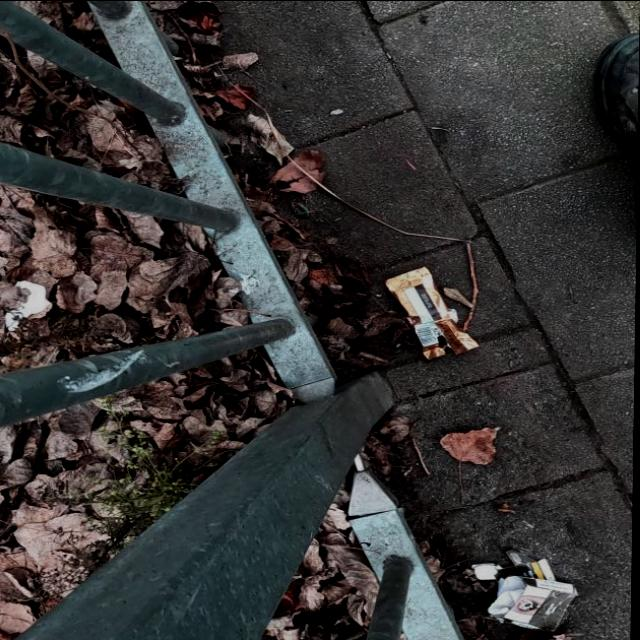Paper: (472, 546, 583, 632), (4, 279, 54, 331)
Plastic: (385, 266, 484, 360)
